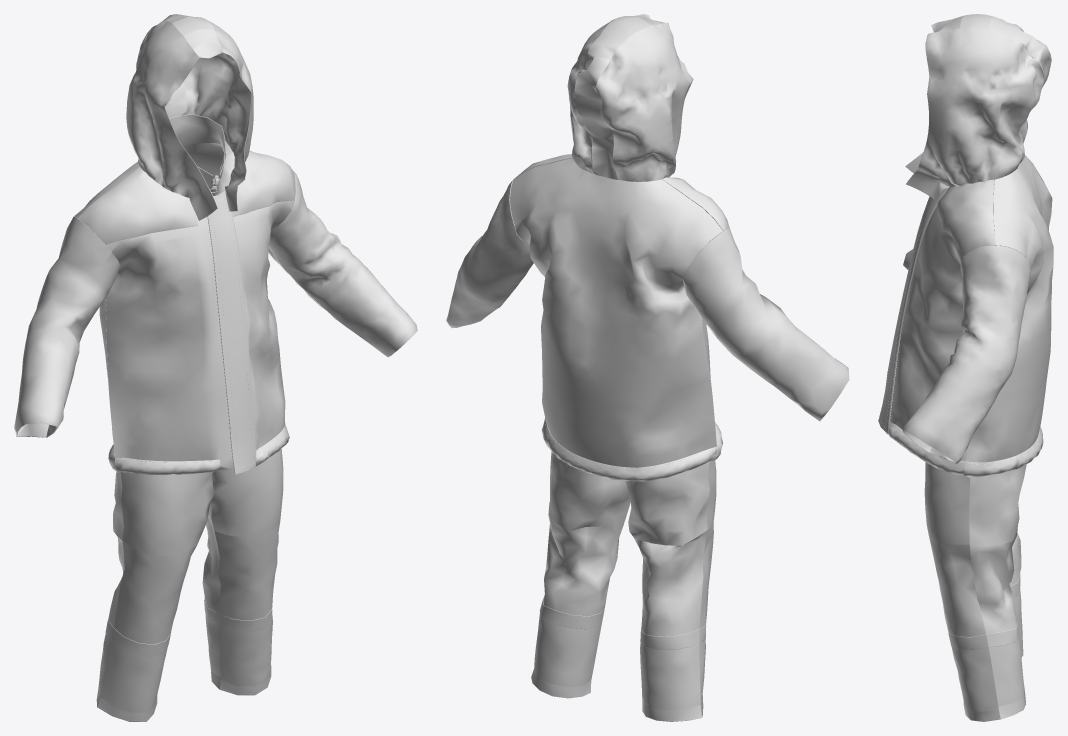
File: бушлат.glb
3 renders of one model, left to right at view 1: azimuth 30°, elevation 25°; view 2: azimuth 150°, elevation 25°; view 3: azimuth 270°, elevation 25°, orthographic.
Visible parts, largest first — view 1: 47, Pattern2D_1259288, Pattern_370757.001, Pattern2D_1259292, 63.002, 37.001, 50.001, 54.002, 46.001, 45.002, Pattern2D_1346558, Pattern_1967015 (+5 smaller); view 2: 8, Pattern2D_1346563, Pattern2D_1346558, 63.002, Pattern_370757.001, 37.001, Pattern_370759, Pattern2D_1259288, Pattern2D_1410638, 46.001, Pattern2D_1404045; view 3: Pattern_370757.001, 8, 37.001, 50.001, Pattern2D_1259292, Pattern2D_1346558, 45.002, 54.002, Pattern_370759, Pattern2D_1404045, Pattern2D_1346563, Pattern_370758 (+1 smaller).
Part boxes in pixels (<box>): 47: <box>78,206,233,475</box>; Pattern2D_1259288: <box>97,472,214,721</box>; Pattern_370757.001: <box>126,18,253,220</box>; Pattern2D_1259292: <box>211,448,283,695</box>; 63.002: <box>14,216,120,437</box>; 37.001: <box>268,169,417,357</box>; 50.001: <box>215,191,293,466</box>; 54.002: <box>207,190,256,474</box>; 46.001: <box>78,167,197,244</box>; 45.002: <box>231,151,295,216</box>; Pattern2D_1346558: <box>202,503,220,689</box>; Pattern_1967015: <box>169,114,234,195</box>; 8: <box>510,158,722,481</box>; Pattern2D_1346563: <box>625,461,709,721</box>; Pattern2D_1346558: <box>531,452,630,698</box>; 63.002: <box>682,227,849,421</box>; Pattern_370757.001: <box>567,16,693,181</box>; 37.001: <box>446,180,533,328</box>; Pattern_370759: <box>574,14,667,179</box>; Pattern2D_1259288: <box>699,460,716,717</box>; Pattern2D_1410638: <box>640,625,706,649</box>; 46.001: <box>662,177,729,230</box>; Pattern2D_1404045: <box>540,598,603,629</box>; Pattern_370757.001: <box>905,14,1051,201</box>; 8: <box>963,155,1053,477</box>; 37.001: <box>902,245,1030,464</box>; 50.001: <box>888,180,995,475</box>; Pattern2D_1259292: <box>924,462,1000,721</box>; Pattern2D_1346558: <box>969,464,1026,719</box>; 45.002: <box>936,179,995,256</box>; 54.002: <box>878,188,947,434</box>; Pattern_370759: <box>931,15,1049,148</box>; Pattern2D_1404045: <box>948,622,1019,649</box>; Pattern2D_1346563: <box>1009,533,1023,656</box>; Pattern_370758: <box>960,14,991,29</box>.
Bounding box in the file's own units: 10.79 × 18.06 × 4.28.
Materials: 27 (1 with a texture image).
